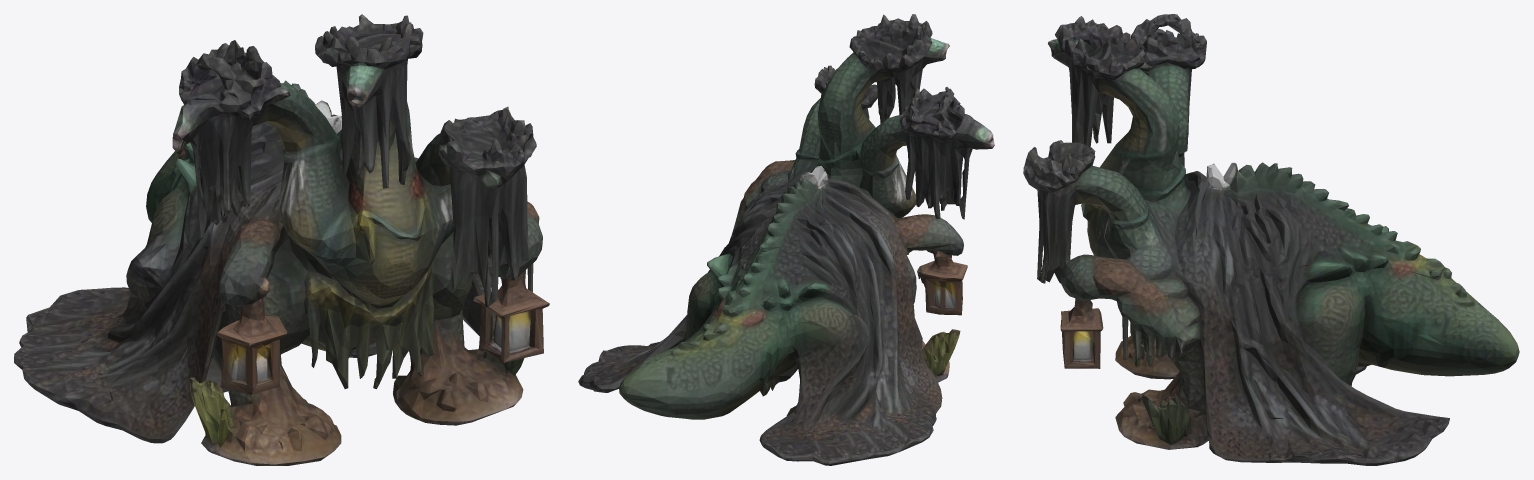
The model's file is mirequeen__widowOfTheFen.glb.
The picture shows the model from 3 angles, left to right: view 1: azimuth 30°, elevation 25°; view 2: azimuth 150°, elevation 25°; view 3: azimuth 270°, elevation 25°; orthographic projection. The views are drawn at different scales.
Visible parts, largest first — view 1: world; view 2: world; view 3: world.
Part boxes in pixels (x1,y1,x2,y2): world: (14,14,549,465); world: (578,14,994,465); world: (1023,14,1519,465).
Size of the model in its own units: 0.7643 by 0.7173 by 0.9081.
Materials: 1 (1 with a texture image).
